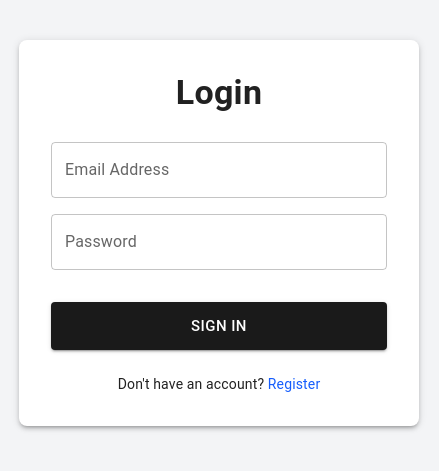
Login Page Validation › shows error messages on invalid email
In the field labelled "Email Address": point(219, 170) x1=51 y1=142 x2=387 y2=198, type "invalid-email"
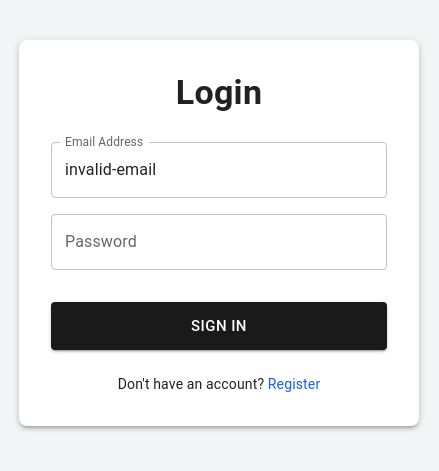
Click the button "Sign In": point(219, 326) x1=51 y1=302 x2=387 y2=350
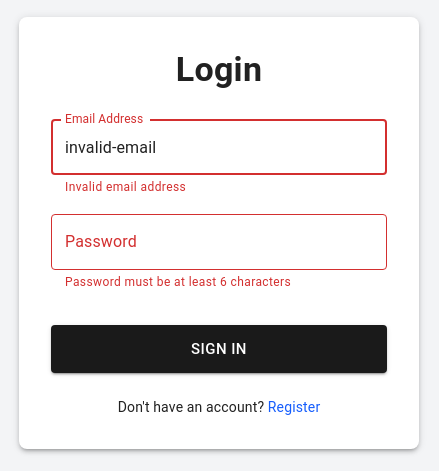
Check: the text "Invalid email address" is shown, box x1=65 y1=180 x2=186 y2=194
